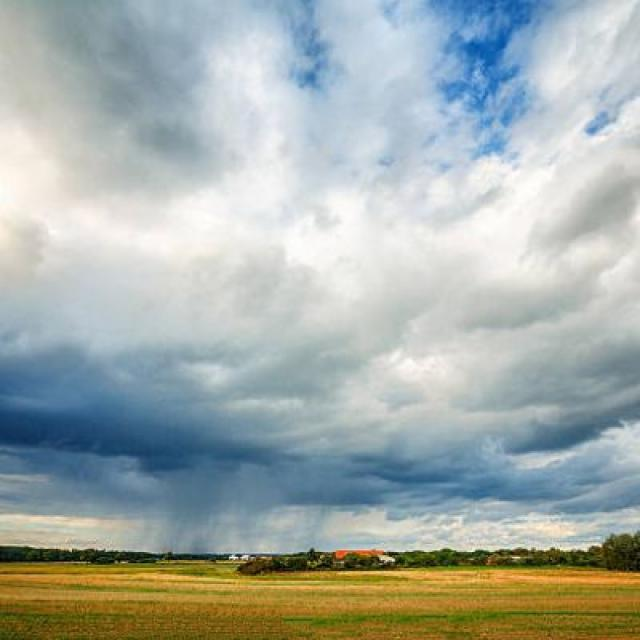Ns: (1, 14, 640, 501)
